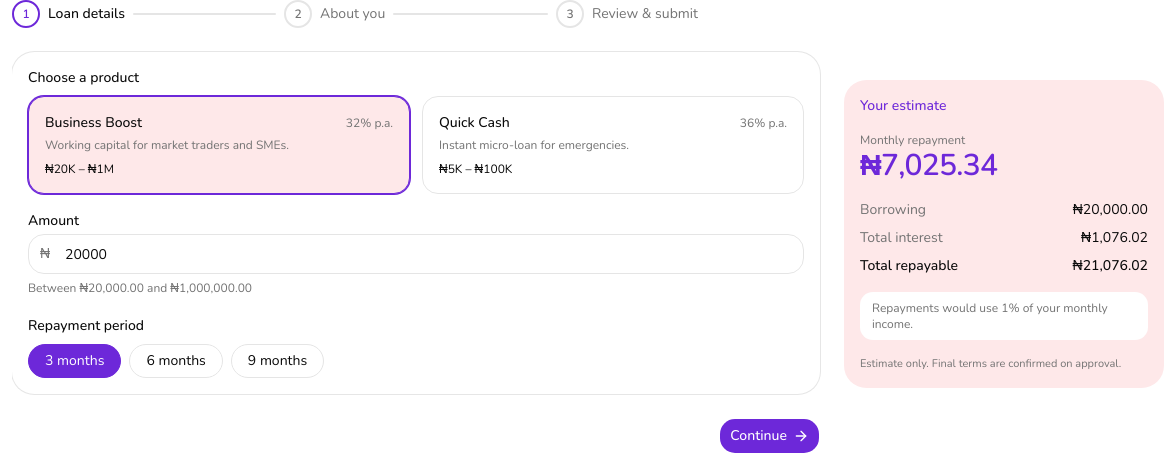
Scenario: ApplicationForm › hides the BVN field for tenants that do not require it
Click the button "Continue".
click(770, 436)  # box [719,418,820,454]
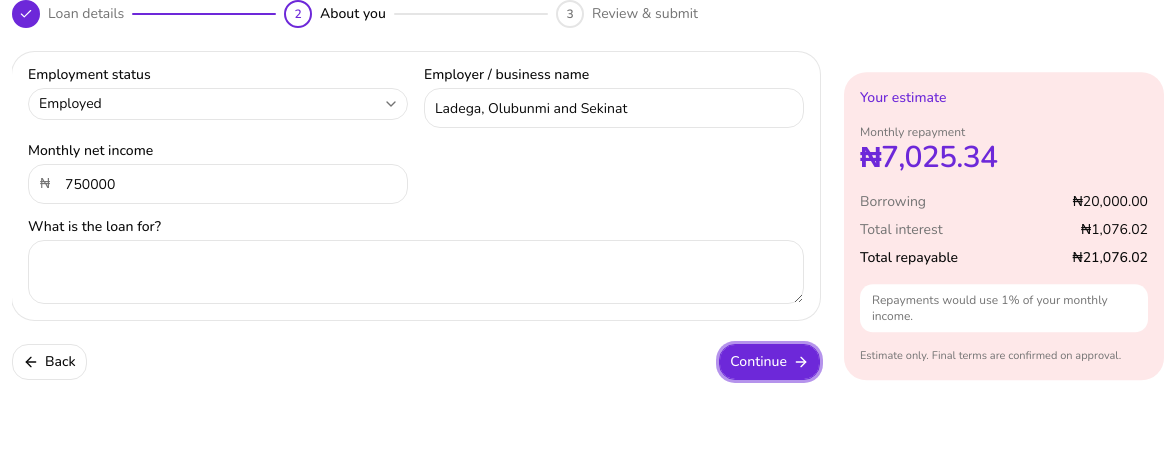
Result: the text box labelled "What is the loan for?" is shown at [28,240,804,304]
